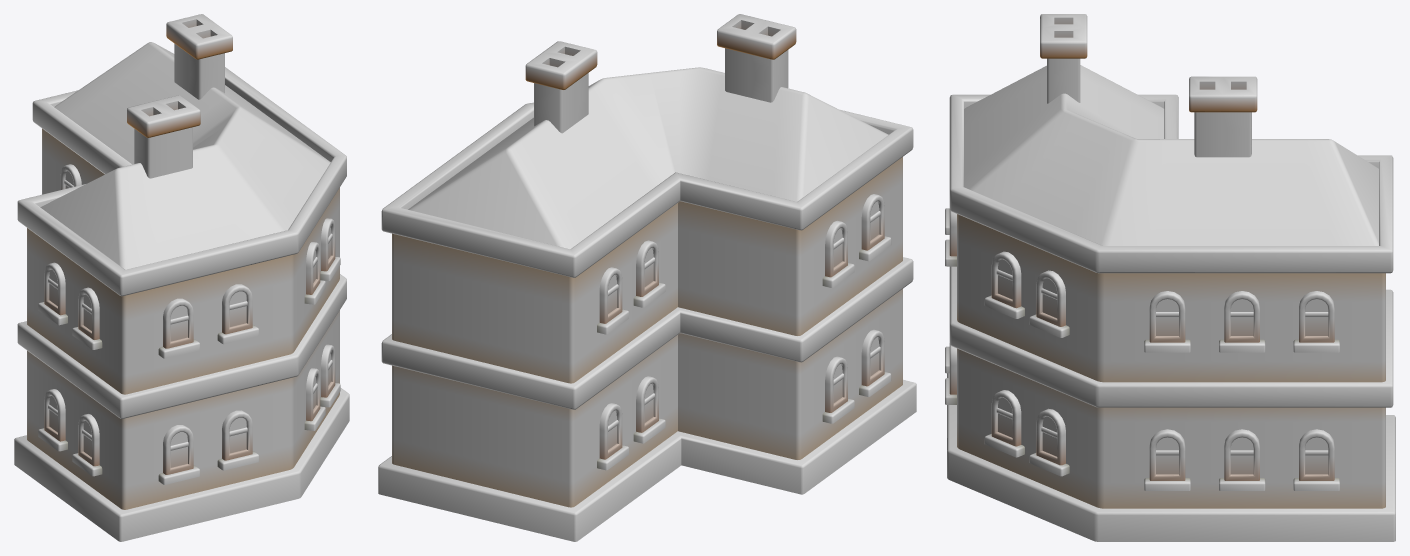
The model's file is NF_Bld_House 27.fbx.
3 views of the same model, side by side, from view 1: azimuth 30°, elevation 25°; view 2: azimuth 150°, elevation 25°; view 3: azimuth 270°, elevation 25° (orthographic). The views are drawn at different scales.
Visible parts, largest first — view 1: House_27; view 2: House_27; view 3: House_27.
Boxes of the visible parts, x1,y1,x2,y2 form: House_27: [14, 14, 349, 541]; House_27: [378, 14, 916, 541]; House_27: [945, 14, 1395, 541].
Bounding box in the file's own units: 10.66 × 12.55 × 12.61.
